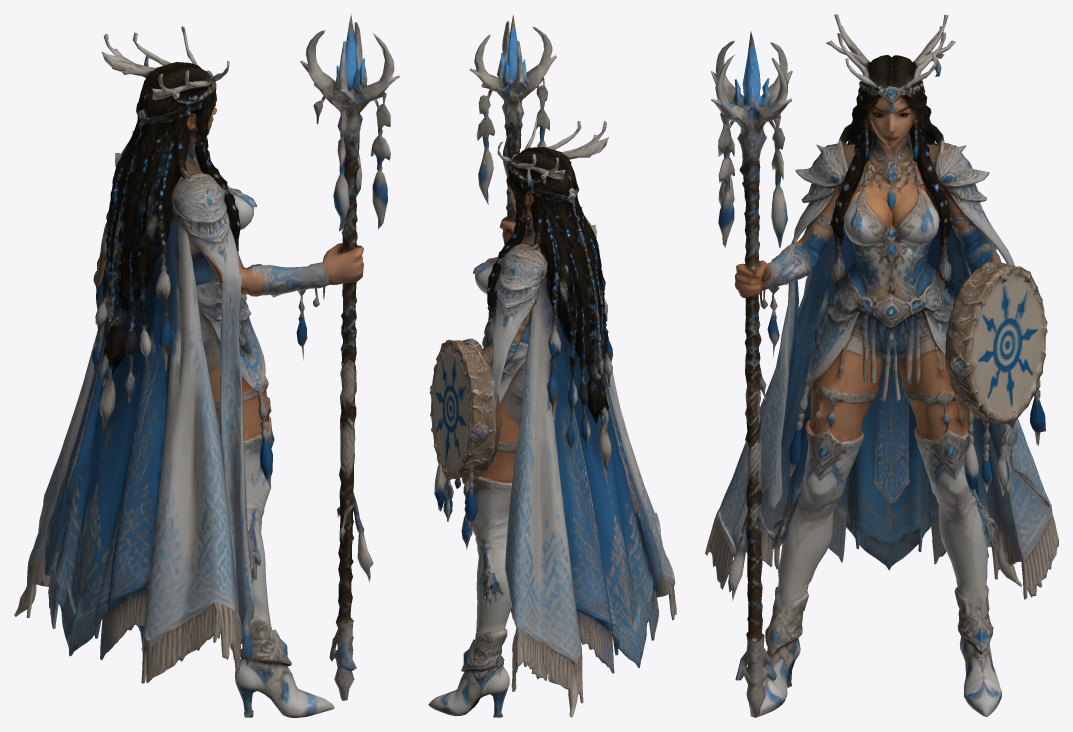
Rendered from drumcaller2_T4-tripo.glb.
3 views of the same model, side by side, from view 1: azimuth 30°, elevation 25°; view 2: azimuth 150°, elevation 25°; view 3: azimuth 270°, elevation 25° (orthographic). The views are drawn at different scales.
Visible parts, largest first — view 1: tripo_node_0836eb56-8d73-4b20-a407-f4cbaa2dea06; view 2: tripo_node_0836eb56-8d73-4b20-a407-f4cbaa2dea06; view 3: tripo_node_0836eb56-8d73-4b20-a407-f4cbaa2dea06.
Part boxes in pixels (x1,y1,x2,y2): tripo_node_0836eb56-8d73-4b20-a407-f4cbaa2dea06: [14, 14, 399, 717]; tripo_node_0836eb56-8d73-4b20-a407-f4cbaa2dea06: [428, 14, 676, 717]; tripo_node_0836eb56-8d73-4b20-a407-f4cbaa2dea06: [705, 14, 1058, 717].
Bounding box in the file's own units: 0.3646 × 1 × 0.4599.
Materials: 1 (1 with a texture image).
